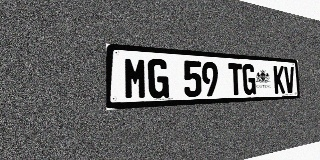5: (184, 60, 202, 97)
9: (202, 61, 218, 97)
G: (148, 58, 169, 99), (242, 64, 256, 95)
K: (273, 65, 285, 94)
M: (124, 57, 147, 100)
T: (228, 63, 243, 96)
V: (284, 66, 295, 93)
